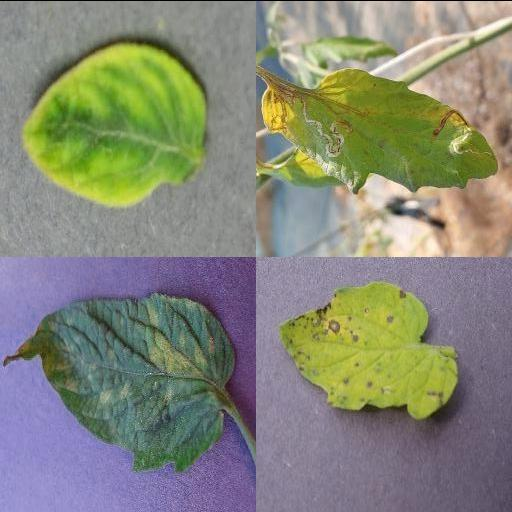Leaf Miner: (257, 62, 499, 194)
Leaf Mold: (3, 290, 235, 473)
Septoria: (277, 278, 459, 419)
Yellow Leaf Curl Virus: (19, 44, 205, 207)
